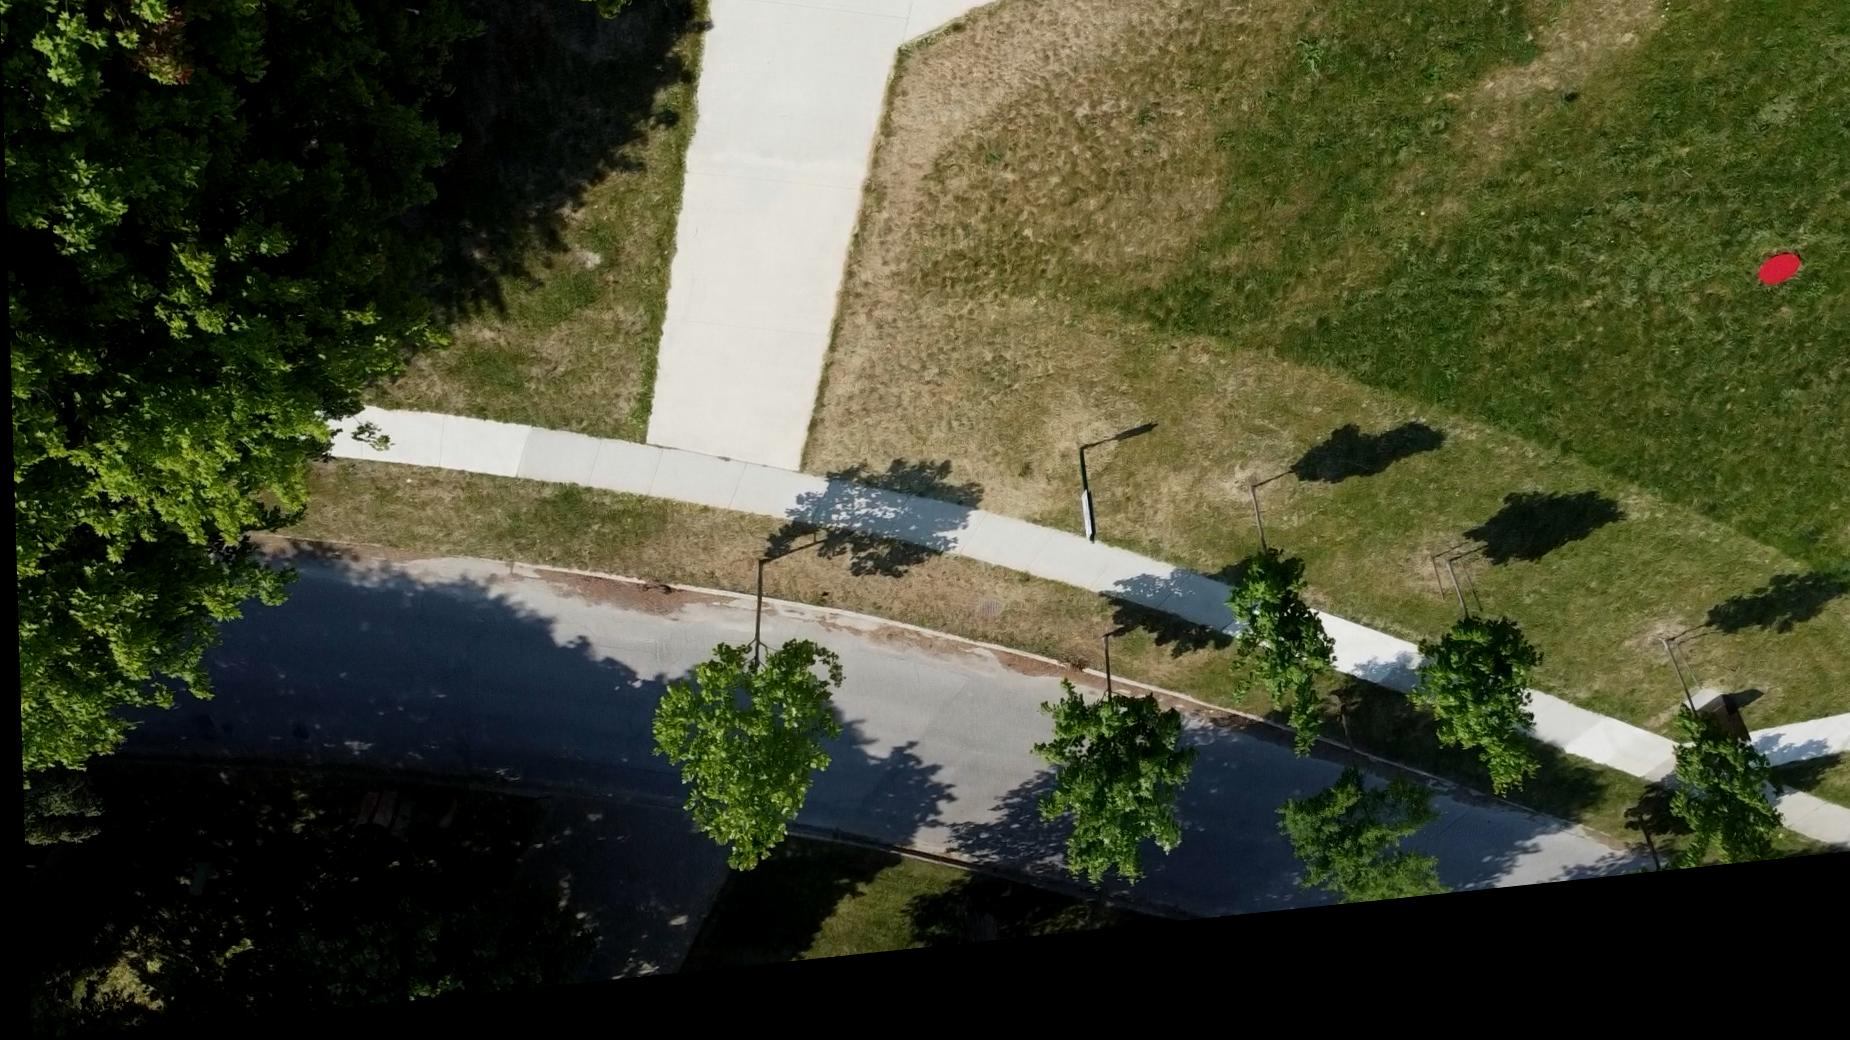Red: (1753, 290, 1800, 325)
